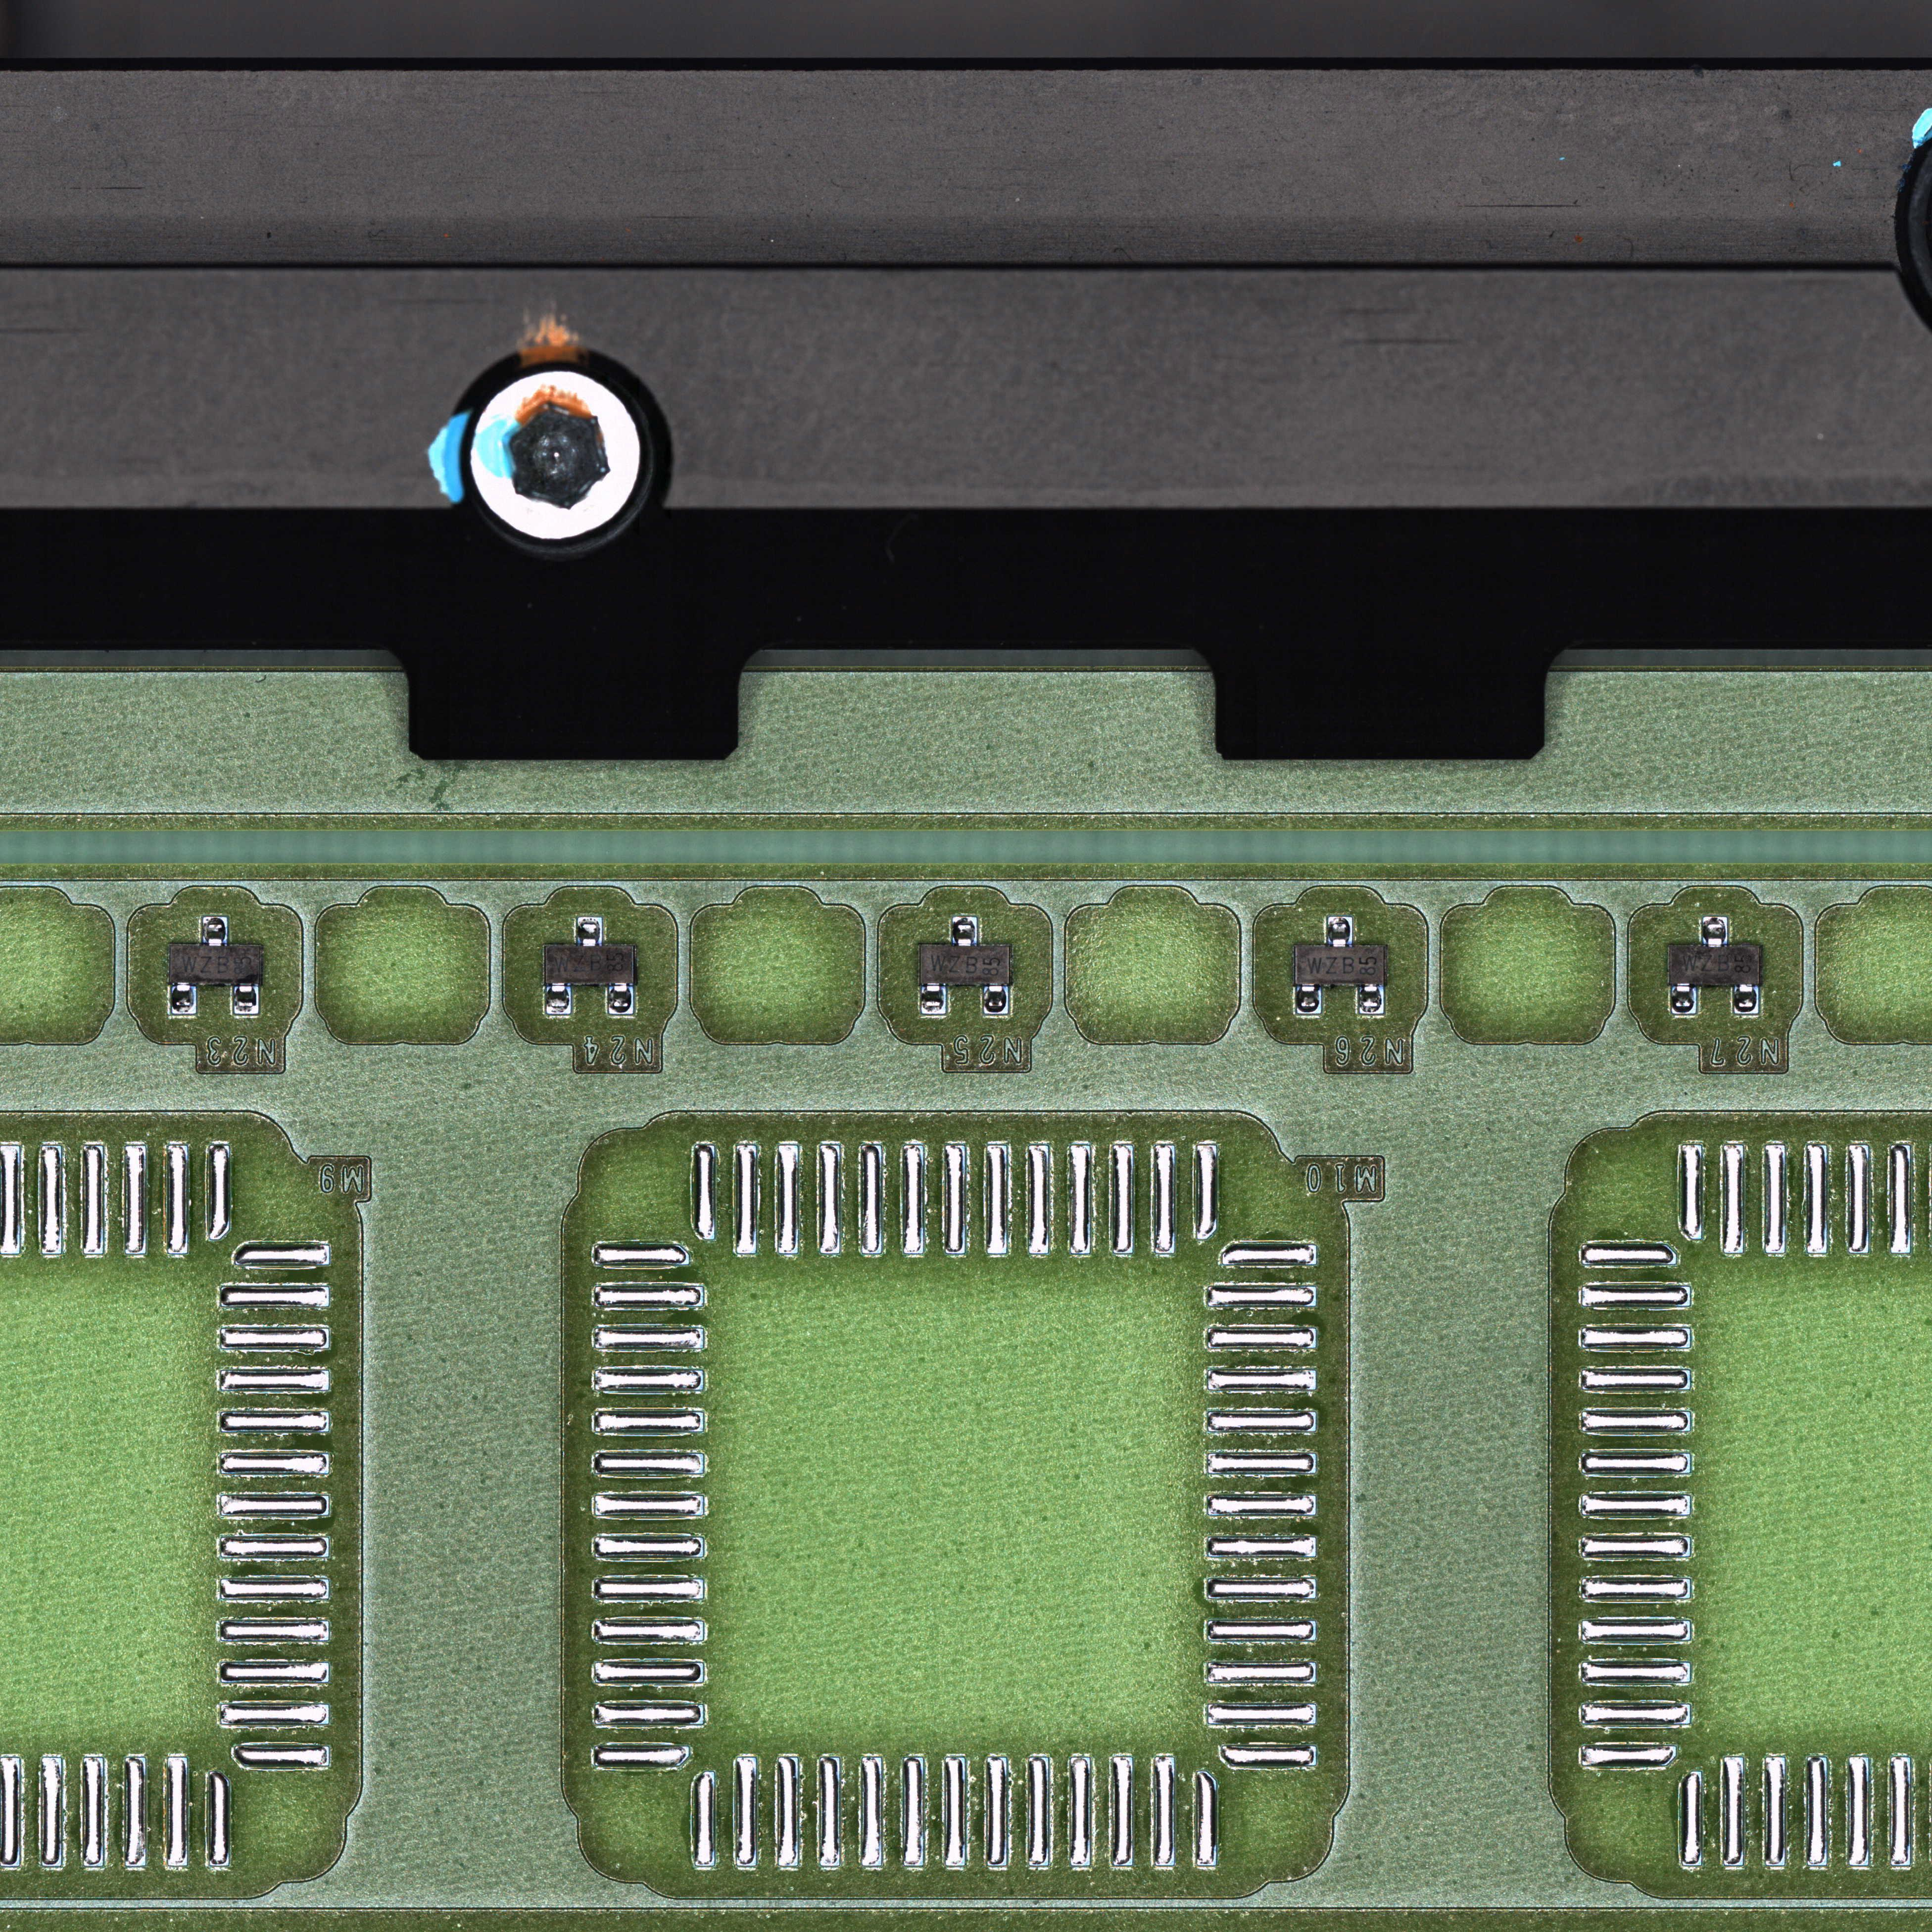Package: (920, 947, 1008, 984), (1670, 947, 1759, 984), (1295, 948, 1385, 984), (170, 947, 260, 982), (545, 947, 633, 982)
Solder: (1670, 984, 1697, 1014), (1327, 916, 1353, 947), (920, 984, 947, 1014), (609, 982, 633, 1014), (547, 982, 571, 1014), (172, 982, 196, 1014), (234, 982, 258, 1014), (1359, 984, 1384, 1014), (1297, 984, 1322, 1014), (1734, 984, 1759, 1014), (984, 984, 1008, 1014), (203, 916, 228, 947), (1702, 916, 1727, 947), (577, 916, 602, 945), (952, 916, 977, 945)
